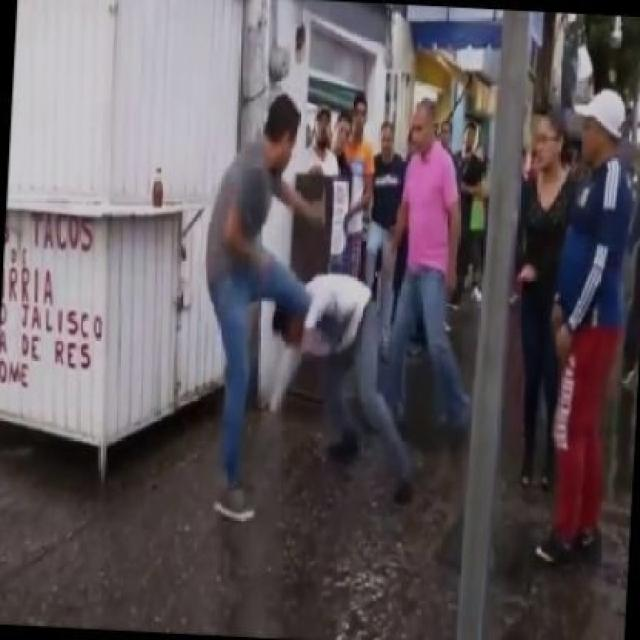fight: (194, 81, 421, 534)
non-fight: (511, 77, 638, 577), (368, 84, 488, 442)
